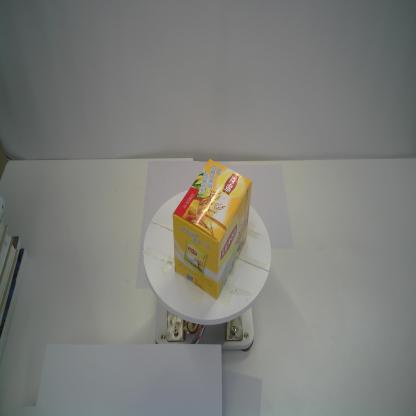Instant Drink: (172, 156, 254, 301)
